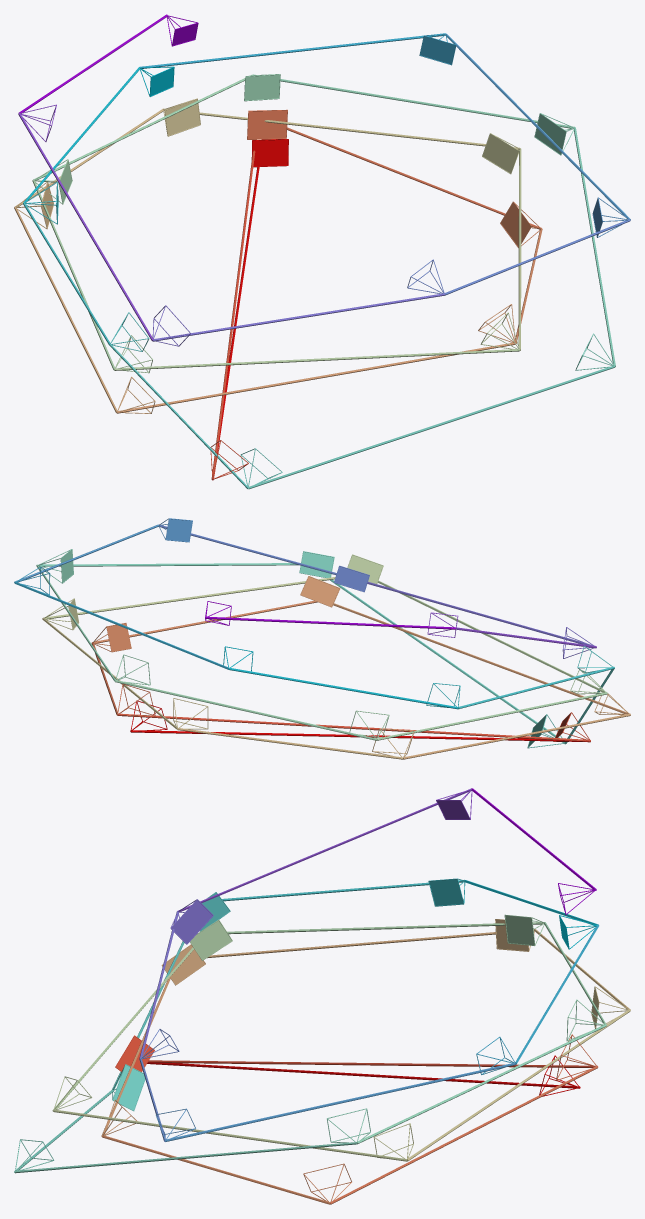
The model's file is baseline.glb.
The picture shows the model from 3 angles, top to bottom: view 1: azimuth 30°, elevation 25°; view 2: azimuth 150°, elevation 25°; view 3: azimuth 270°, elevation 25°; orthographic projection. The views are drawn at different scales.
Parts seen in each view (by area): view 1: trajectory, frustums; view 2: trajectory, frustums; view 3: trajectory, frustums.
Part boxes in pixels (x1,y1,x2,y2): trajectory: [14, 14, 630, 489]; frustums: [16, 15, 628, 486]; trajectory: [14, 524, 630, 759]; frustums: [16, 518, 629, 757]; trajectory: [14, 788, 630, 1204]; frustums: [15, 789, 628, 1201].
Size of the model in its own units: 1.51 by 0.7218 by 1.42.
